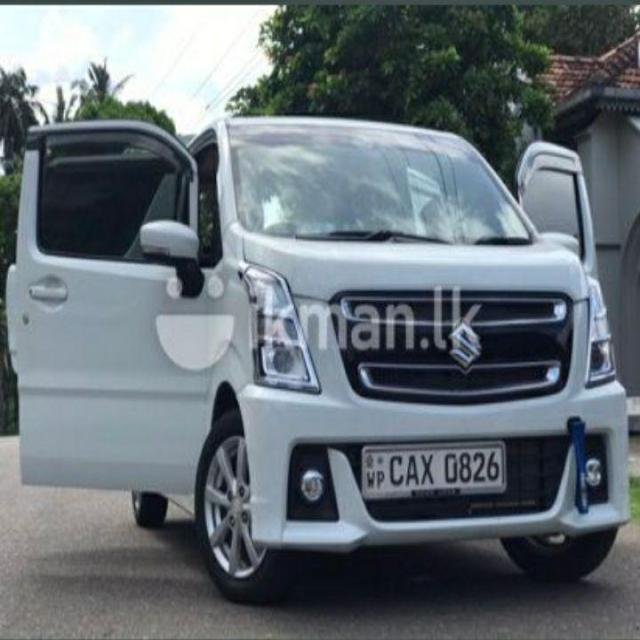license-plate: (361, 444, 501, 500)
